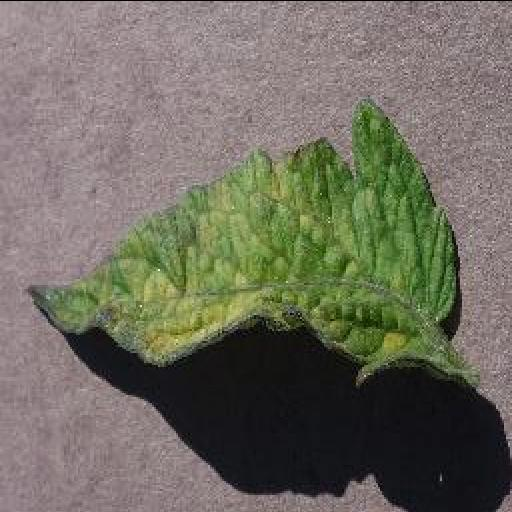disease_tomato: (22, 97, 458, 385)
